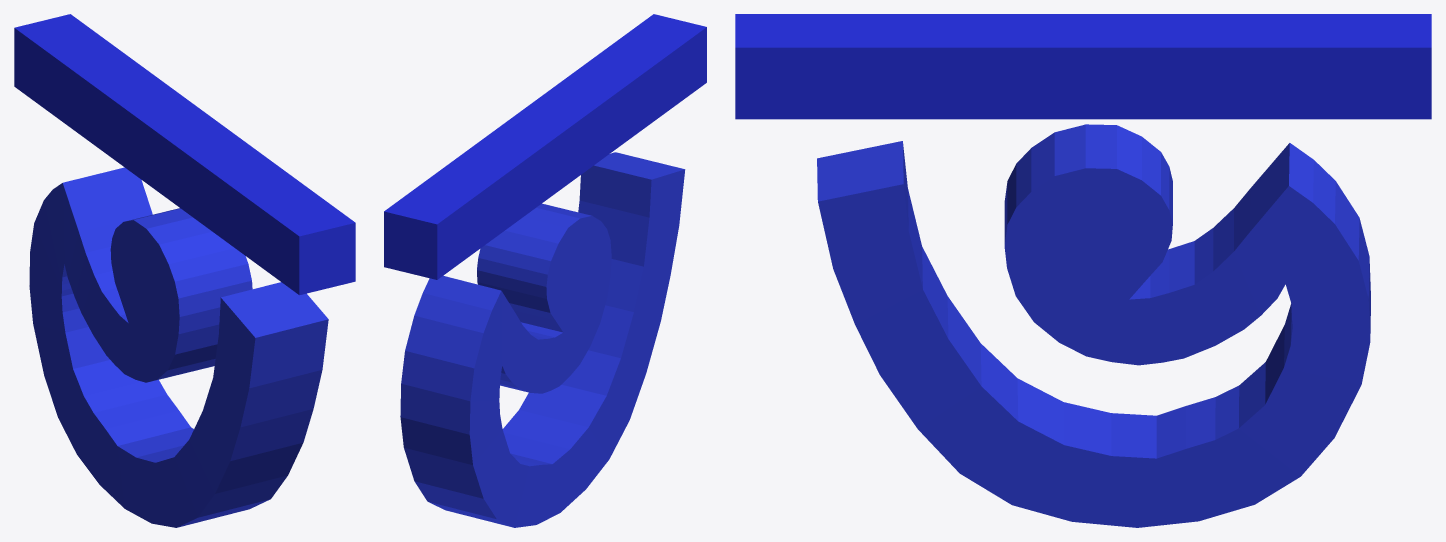
3 renders of one model, left to right at view 1: azimuth 30°, elevation 25°; view 2: azimuth 150°, elevation 25°; view 3: azimuth 270°, elevation 25°, orthographic. The views are drawn at different scales.
Visible parts, largest first — view 1: Cube.001, Cube; view 2: Cube.001, Cube; view 3: Cube.001, Cube.
Boxes of the visible parts, x1,y1,x2,y2 form: Cube.001: (29, 167, 328, 527); Cube: (14, 14, 355, 295); Cube.001: (400, 152, 685, 527); Cube: (384, 14, 706, 279); Cube.001: (817, 124, 1370, 527); Cube: (735, 14, 1431, 119).
Size of the model in its own units: 267 by 1327 by 1756.
